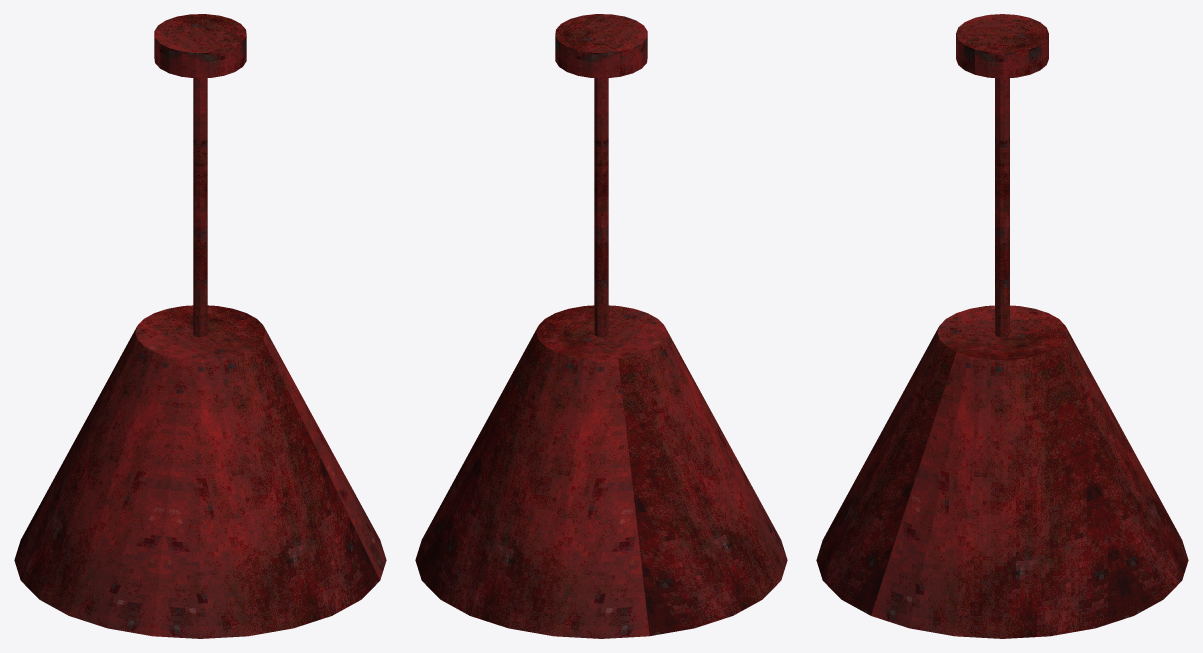
Rendered from env_lamp.glb.
3 renders of one model, left to right at view 1: azimuth 30°, elevation 25°; view 2: azimuth 150°, elevation 25°; view 3: azimuth 270°, elevation 25°, orthographic.
Visible parts, largest first — view 1: env_lamp-col; view 2: env_lamp-col; view 3: env_lamp-col.
Part boxes in pixels (<box>): env_lamp-col: <box>14,14,386,638</box>; env_lamp-col: <box>415,14,787,638</box>; env_lamp-col: <box>816,14,1188,638</box>.
Bounding box in the file's own units: 0.4675 × 0.7324 × 0.4675.
Materials: 2 (1 with a texture image).
